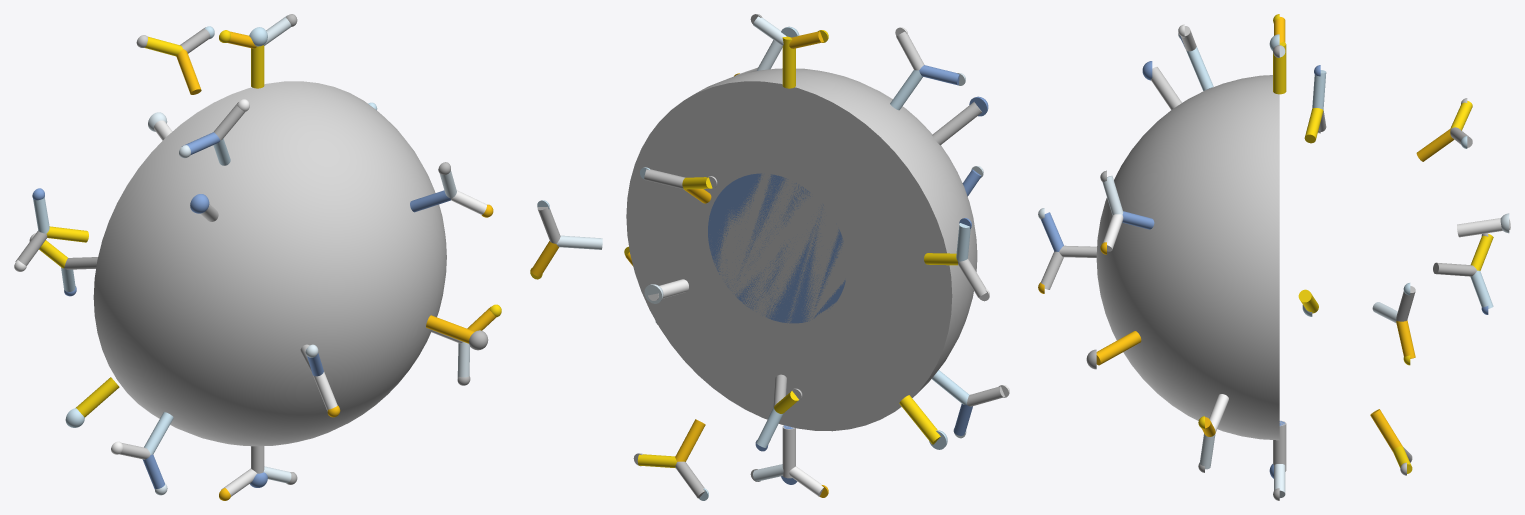
File: 18_cytotoxic_T_cell_CD8 - Composite part 1.glb
3 views of the same model, side by side, from view 1: azimuth 30°, elevation 25°; view 2: azimuth 150°, elevation 25°; view 3: azimuth 270°, elevation 25° (orthographic). The views are drawn at different scales.
Visible parts, largest first — view 1: Open CASCADE STEP translator 7.9 18.1, Open CASCADE STEP translator 7.9 18.71, Open CASCADE STEP translator 7.9 18.69, Open CASCADE STEP translator 7.9 18.63, Open CASCADE STEP translator 7.9 18.13; view 2: Open CASCADE STEP translator 7.9 18.1, Open CASCADE STEP translator 7.9 18.2, Open CASCADE STEP translator 7.9 18.65, Open CASCADE STEP translator 7.9 18.71, Open CASCADE STEP translator 7.9 18.63, Open CASCADE STEP translator 7.9 18.73, Open CASCADE STEP translator 7.9 18.53, Open CASCADE STEP translator 7.9 18.28, Open CASCADE STEP translator 7.9 18.8; view 3: Open CASCADE STEP translator 7.9 18.1, Open CASCADE STEP translator 7.9 18.69, Open CASCADE STEP translator 7.9 18.67, Open CASCADE STEP translator 7.9 18.63, Open CASCADE STEP translator 7.9 18.65, Open CASCADE STEP translator 7.9 18.53, Open CASCADE STEP translator 7.9 18.8.
Boxes of the visible parts, x1,y1,x2,y2 form: Open CASCADE STEP translator 7.9 18.1: [93, 81, 446, 446]; Open CASCADE STEP translator 7.9 18.71: [75, 377, 119, 417]; Open CASCADE STEP translator 7.9 18.69: [426, 315, 474, 343]; Open CASCADE STEP translator 7.9 18.63: [251, 45, 264, 88]; Open CASCADE STEP translator 7.9 18.13: [176, 49, 201, 94]; Open CASCADE STEP translator 7.9 18.1: [626, 68, 977, 431]; Open CASCADE STEP translator 7.9 18.2: [708, 173, 845, 323]; Open CASCADE STEP translator 7.9 18.65: [932, 102, 981, 145]; Open CASCADE STEP translator 7.9 18.71: [899, 395, 940, 444]; Open CASCADE STEP translator 7.9 18.63: [782, 36, 795, 88]; Open CASCADE STEP translator 7.9 18.73: [782, 425, 795, 478]; Open CASCADE STEP translator 7.9 18.53: [675, 419, 705, 461]; Open CASCADE STEP translator 7.9 18.28: [556, 235, 602, 249]; Open CASCADE STEP translator 7.9 18.8: [890, 70, 922, 110]; Open CASCADE STEP translator 7.9 18.1: [1096, 75, 1279, 440]; Open CASCADE STEP translator 7.9 18.69: [1096, 331, 1141, 365]; Open CASCADE STEP translator 7.9 18.67: [1457, 218, 1510, 237]; Open CASCADE STEP translator 7.9 18.63: [1273, 42, 1286, 94]; Open CASCADE STEP translator 7.9 18.65: [1151, 67, 1181, 109]; Open CASCADE STEP translator 7.9 18.53: [1370, 409, 1402, 451]; Open CASCADE STEP translator 7.9 18.8: [1186, 46, 1213, 90].
Size of the model in its own units: 0.0182 by 0.0192 by 0.0181.
